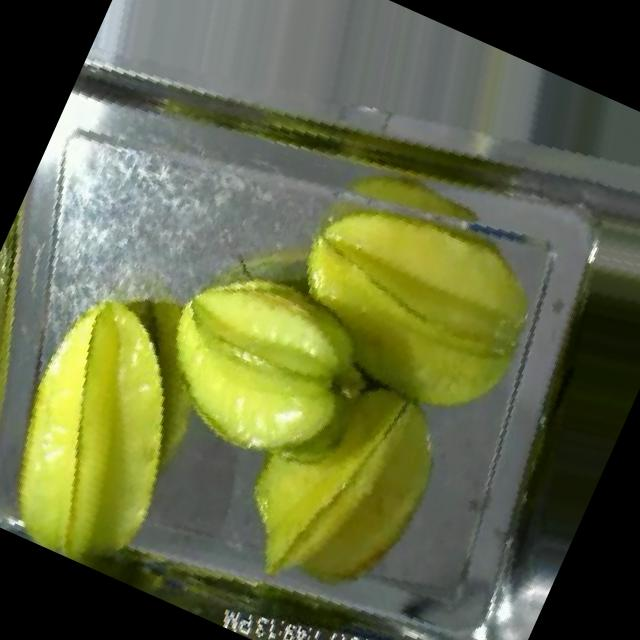fruit: (238, 138, 592, 476), (186, 318, 495, 640), (103, 207, 410, 518), (0, 247, 268, 596), (0, 217, 83, 512)
